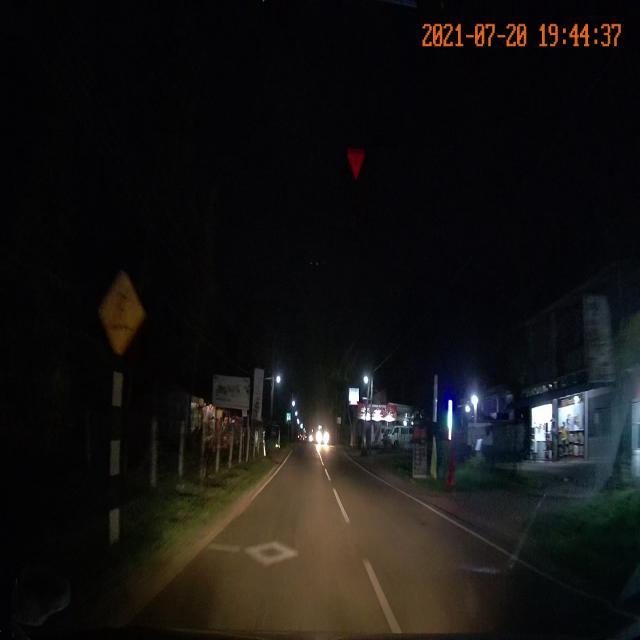diamond: (179, 526, 386, 593)
